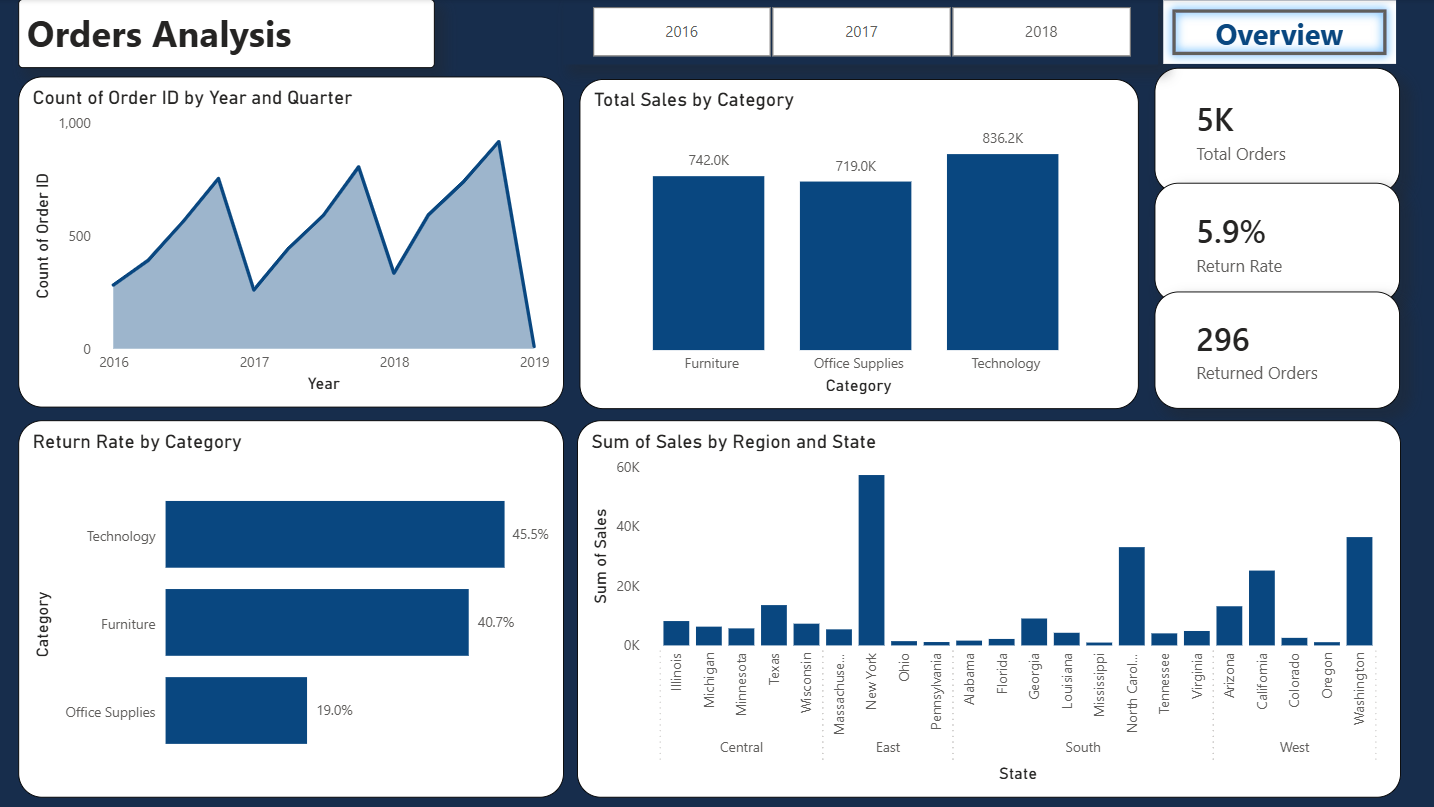

The dashboard page shown, as its layout file describes it:
{"tool":"powerbi","page":{"name":"Orders","canvas":[1280,720],"ordinal":2},"visuals":[{"type":"textbox","box":[18.7,0,366.2,60.5],"z":0},{"type":"cardVisual","fields":{"Data":["Measures (2).Total Orders"]},"box":[1018.1,60.2,216.3,110.5],"z":1000},{"type":"cardVisual","fields":{"Data":["Measures (2).Return Rate"]},"box":[1018.6,161.6,216.3,105.8],"z":2000},{"type":"slicer","fields":{"Values":["Date.Year"]},"box":[498.1,0,522.8,57.6],"z":3000},{"type":"cardVisual","fields":{"Data":["Measures (2).Returned Orders"]},"box":[1018.6,257,216.3,103.5],"z":4000},{"type":"barChart","fields":{"Category":["Product.Category"],"Y":["Measures (2).Return Rate"]},"box":[19,370.2,479.8,332.1],"z":5000},{"type":"stackedAreaChart","fields":{"Category":["Date.Date.Variation.Date Hierarchy.Year","Date.Date.Variation.Date Hierarchy.Quarter"],"Y":["CountNonNull(Orders.Order ID)"]},"box":[18.6,68.6,480,291.4],"z":6000},{"type":"columnChart","fields":{"Y":["Sum(Orders.Sales)"],"Category":["Customers.Region","Customers.State","Customers.City"]},"box":[510.5,370.5,724.5,332.1],"z":7000},{"type":"columnChart","fields":{"Category":["Product.Category","Product.Sub-Category"],"Y":["Measures (2).Total Sales"]},"box":[511.9,70.2,491.7,290.5],"z":8000},{"type":"actionButton","box":[1026.4,1.4,204.5,56.3],"z":9000}]}

Visuals, with their boxes in screenshot pixels (x1, y1, x2, y2), scaled from the page's 1280x720 canvas onto the 1434x807 screenshot:
textbox: pyautogui.locateOnScreen(21, 0, 431, 68)
cardVisual - Measures (2).Total Orders: pyautogui.locateOnScreen(1141, 67, 1383, 191)
cardVisual - Measures (2).Return Rate: pyautogui.locateOnScreen(1141, 181, 1383, 300)
slicer - Date.Year: pyautogui.locateOnScreen(558, 0, 1144, 65)
cardVisual - Measures (2).Returned Orders: pyautogui.locateOnScreen(1141, 288, 1383, 404)
barChart - Product.Category x Measures (2).Return Rate: pyautogui.locateOnScreen(21, 415, 559, 787)
stackedAreaChart - Date.Date.Variation.Date Hierarchy.Year x Date.Date.Variation.Date Hierarchy.Quarter: pyautogui.locateOnScreen(21, 77, 559, 404)
columnChart - Sum(Orders.Sales) x Customers.Region: pyautogui.locateOnScreen(572, 415, 1384, 787)
columnChart - Product.Category x Product.Sub-Category: pyautogui.locateOnScreen(573, 79, 1124, 404)
actionButton: pyautogui.locateOnScreen(1150, 2, 1379, 65)
